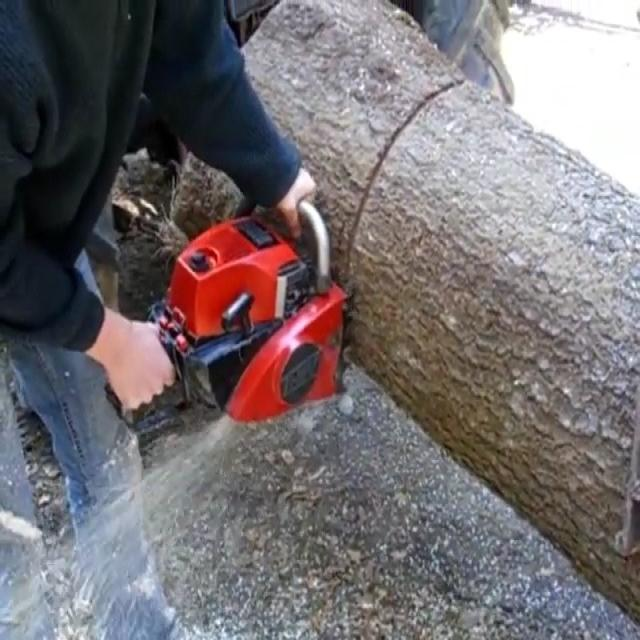Chainsaw: (97, 178, 376, 444)
